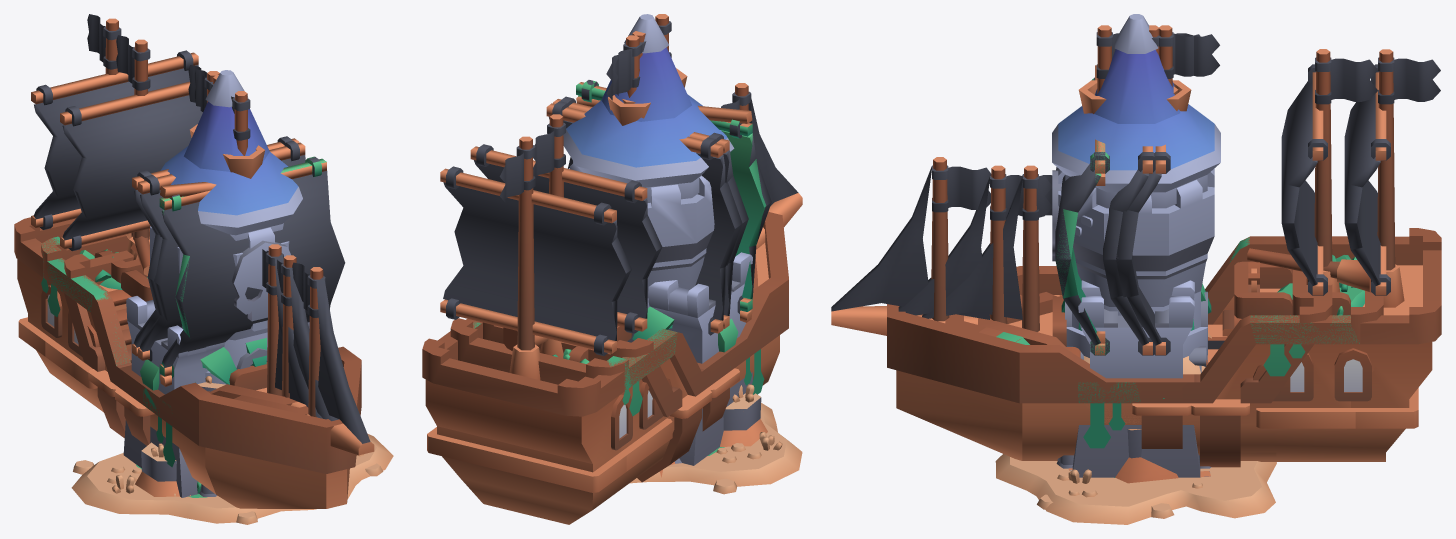
File: world.glb
3 views of the same model, side by side, from view 1: azimuth 30°, elevation 25°; view 2: azimuth 150°, elevation 25°; view 3: azimuth 270°, elevation 25° (orthographic). The views are drawn at different scales.
Visible parts, largest first — view 1: ship-pirate-large, sail-a (×5), sail-b (×2), ship-pirate-medium, tower-complete-large, patch-sand-foliage, ship-pirate-small, castle-gate, flag-c (×3), ship-wreck, tower-complete-small, ship-ghost (+5 smaller); view 2: ship-pirate-large, sail-b (×2), tower-complete-large, sail-a (×5), ship-pirate-medium, castle-gate, patch-sand-foliage, tower-complete-small, ship-wreck, ship-pirate-small, flag-c (×2), ship-ghost (+4 smaller); view 3: ship-pirate-large, ship-pirate-medium, tower-complete-large, sail-b (×2), ship-pirate-small, sail-a (×4), patch-sand-foliage, tower-complete-small, castle-gate, flag-c (×4), ship-wreck, ship-ghost (+4 smaller).
Boxes of the visible parts, bbox=[...] form: ship-pirate-large: bbox=[14, 18, 374, 508]; sail-a (×5): bbox=[132, 136, 345, 386]; sail-b (×2): bbox=[31, 50, 202, 251]; ship-pirate-medium: bbox=[41, 39, 338, 446]; tower-complete-large: bbox=[160, 70, 302, 369]; patch-sand-foliage: bbox=[71, 433, 393, 524]; ship-pirate-small: bbox=[64, 71, 322, 418]; castle-gate: bbox=[123, 296, 309, 497]; flag-c (×3): bbox=[87, 14, 325, 317]; ship-wreck: bbox=[41, 109, 308, 414]; tower-complete-small: bbox=[150, 226, 289, 384]; ship-ghost: bbox=[41, 253, 175, 467]; ship-pirate-large: bbox=[422, 31, 802, 524]; sail-b (×2): bbox=[440, 144, 662, 355]; tower-complete-large: bbox=[563, 14, 734, 342]; sail-a (×5): bbox=[546, 80, 771, 335]; ship-pirate-medium: bbox=[450, 14, 762, 471]; castle-gate: bbox=[648, 252, 752, 465]; patch-sand-foliage: bbox=[630, 403, 802, 494]; tower-complete-small: bbox=[569, 162, 714, 298]; ship-wreck: bbox=[451, 16, 765, 447]; ship-pirate-small: bbox=[483, 35, 739, 437]; flag-c (×2): bbox=[499, 123, 565, 202]; ship-ghost: bbox=[473, 322, 764, 416]; ship-pirate-large: bbox=[831, 25, 1441, 467]; ship-pirate-medium: bbox=[898, 25, 1383, 448]; tower-complete-large: bbox=[1052, 14, 1220, 354]; sail-b (×2): bbox=[1281, 64, 1390, 295]; ship-pirate-small: bbox=[922, 25, 1332, 456]; sail-a (×4): bbox=[1052, 77, 1170, 355]; patch-sand-foliage: bbox=[995, 454, 1276, 524]; tower-complete-small: bbox=[1058, 168, 1214, 357]; castle-gate: bbox=[1056, 282, 1211, 477]; flag-c (×4): bbox=[932, 33, 1440, 212]; ship-wreck: bbox=[916, 29, 1382, 448]; ship-ghost: bbox=[996, 315, 1359, 448].
Bounding box in the file's own units: 7.74 × 10.56 × 13.1.
Materials: 14 (2 with a texture image).
